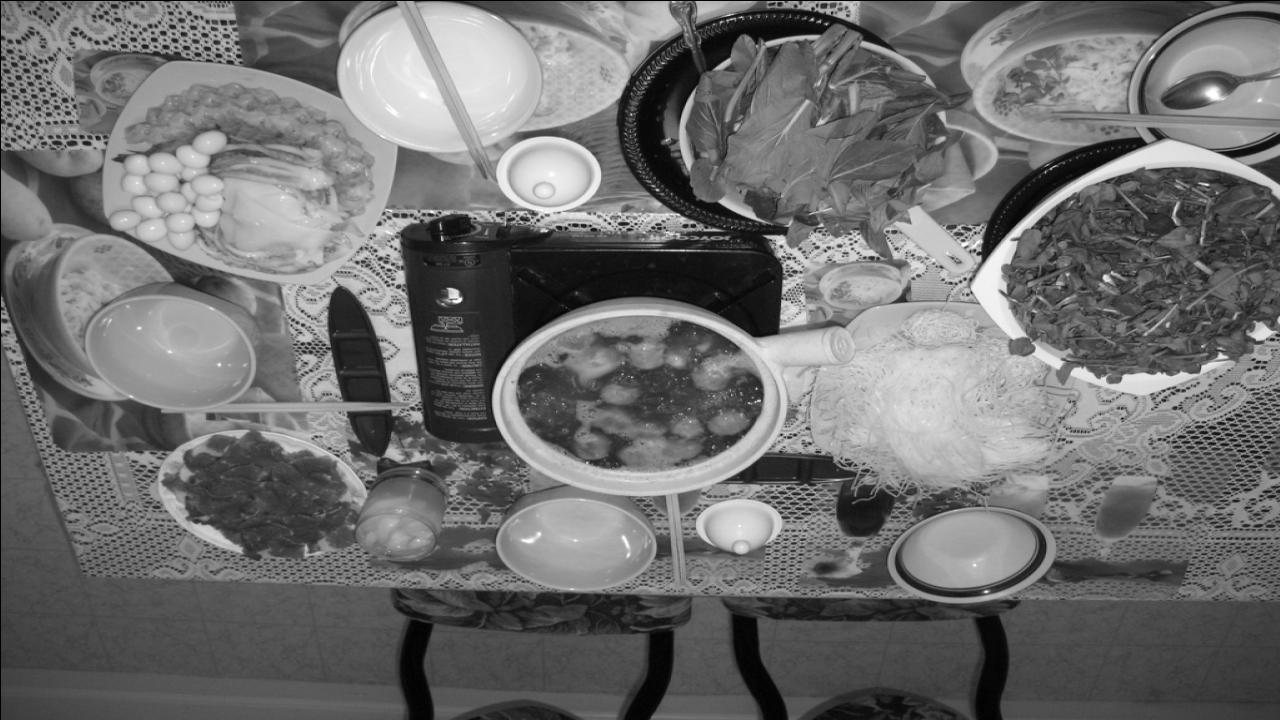chopstick: (388, 0, 494, 176), (1062, 109, 1280, 134), (661, 493, 691, 588), (156, 402, 408, 412)
